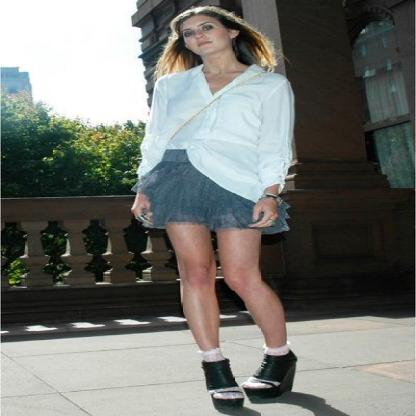jacket: (136, 64, 297, 202)
shoe: (202, 350, 296, 403)
skirt: (131, 149, 290, 234)
